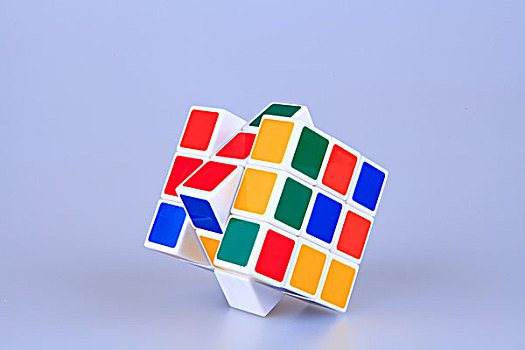cube: (139, 99, 389, 321)
